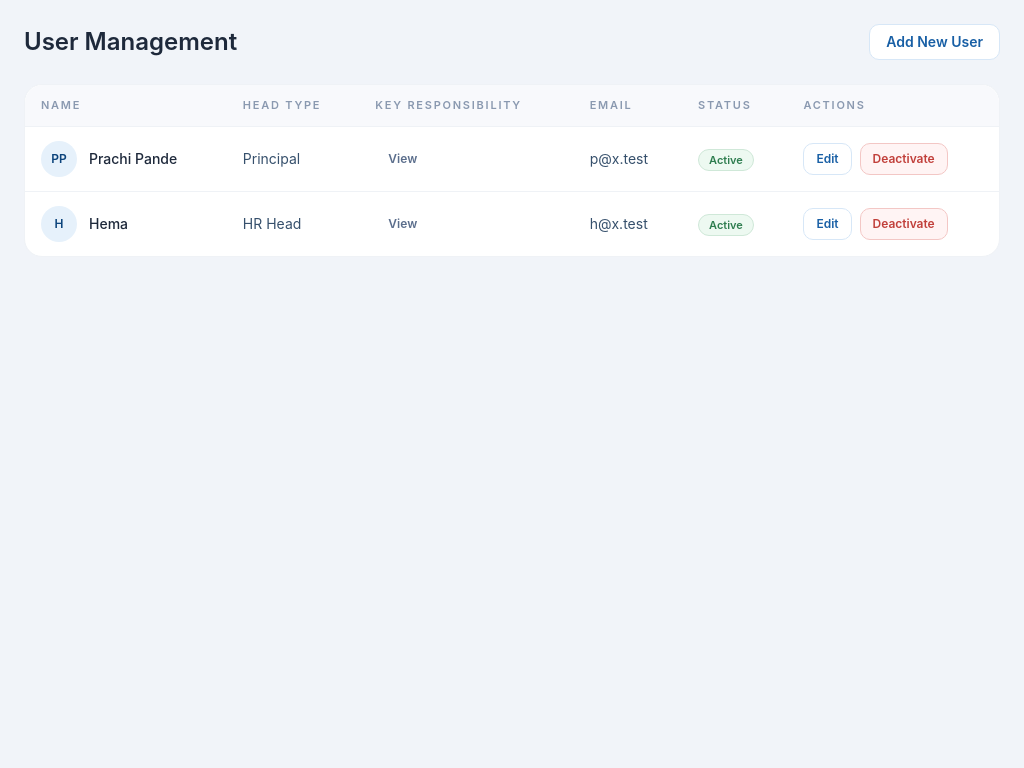
User Management key responsibilities › opens a popup with the responsibilities of the chosen user only
What coordinates should you click on to do the following:
click the button with aria-label "View key responsibilities of Prachi Pande"
I would click on:
 (403, 158)
Its box is [375,142,430,174].
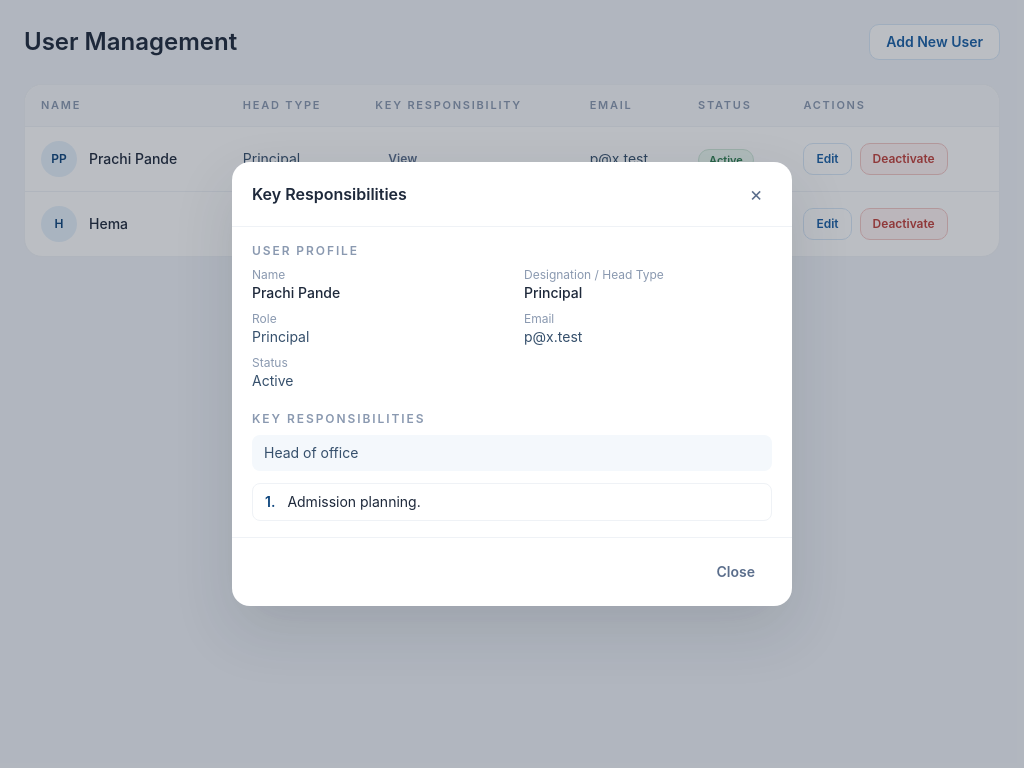
Result: the text "Admission planning." is shown at [287,492,421,512]
What coordinates should you click on to do the following:
click the button "Close"
I would click on:
 (736, 572)
Its box is [700,554,772,590].
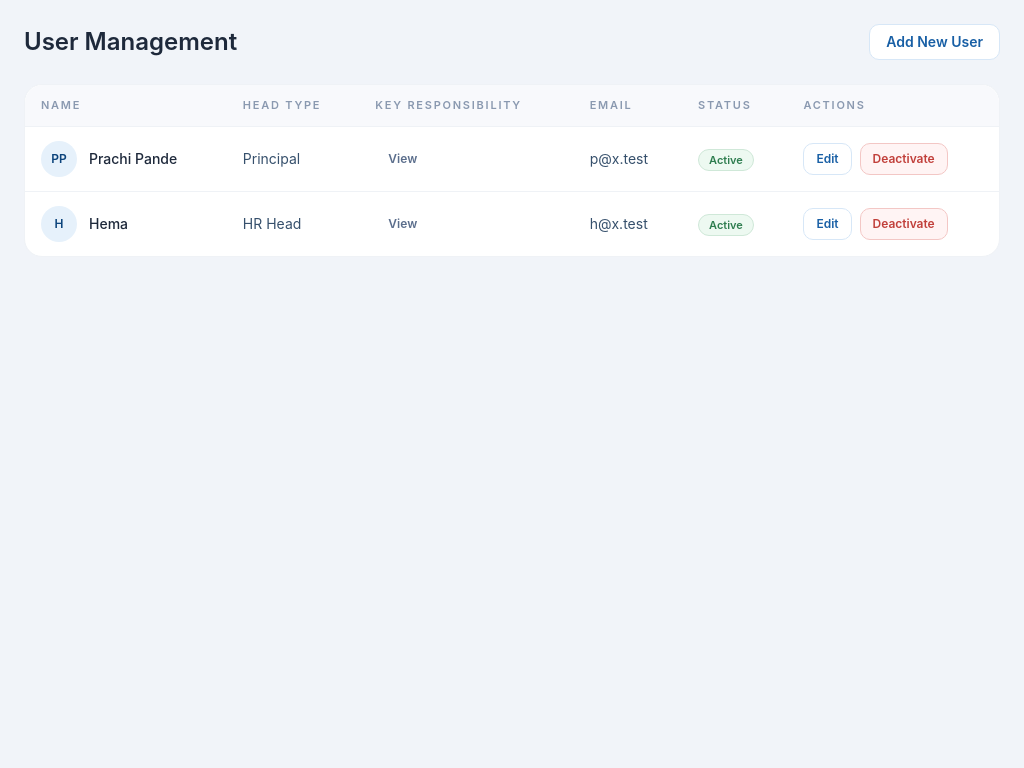
Result: the dialog is gone
What coordinates should you click on to do the following:
click the button with aria-label "View key responsibilities of Hema"
I would click on:
 (403, 224)
Its box is [375,208,430,240].
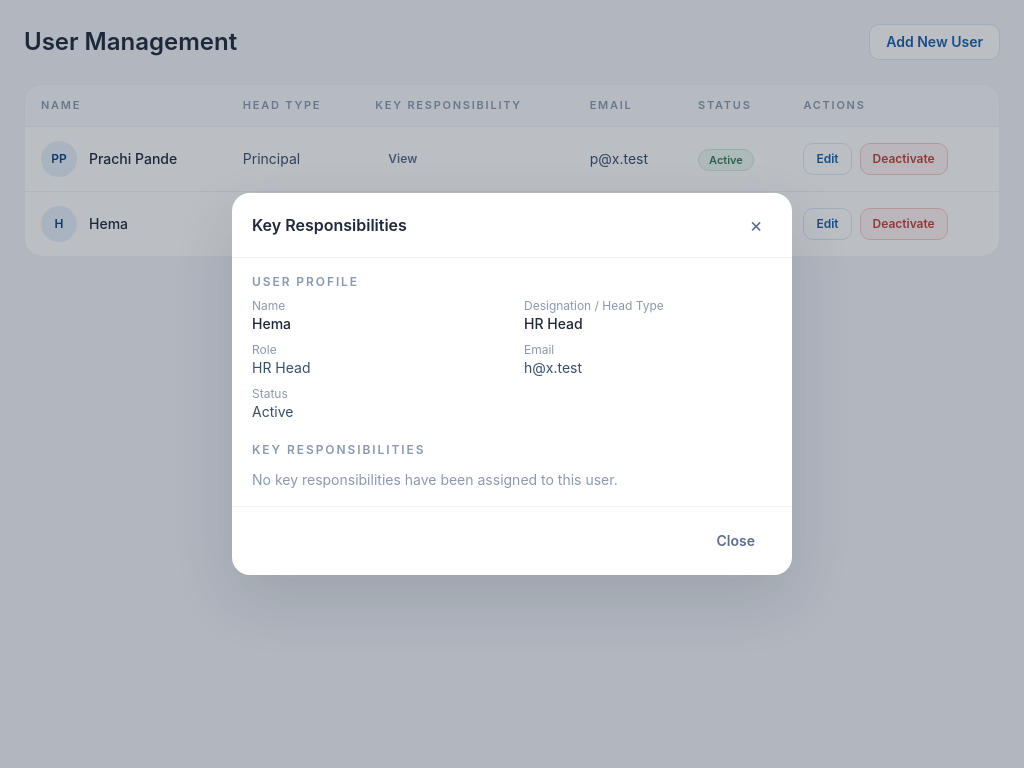
Expected: the text "Admission planning." is not shown
Result: the text "No key responsibilities have been assigned to this user." is shown at [252,471,618,488]
